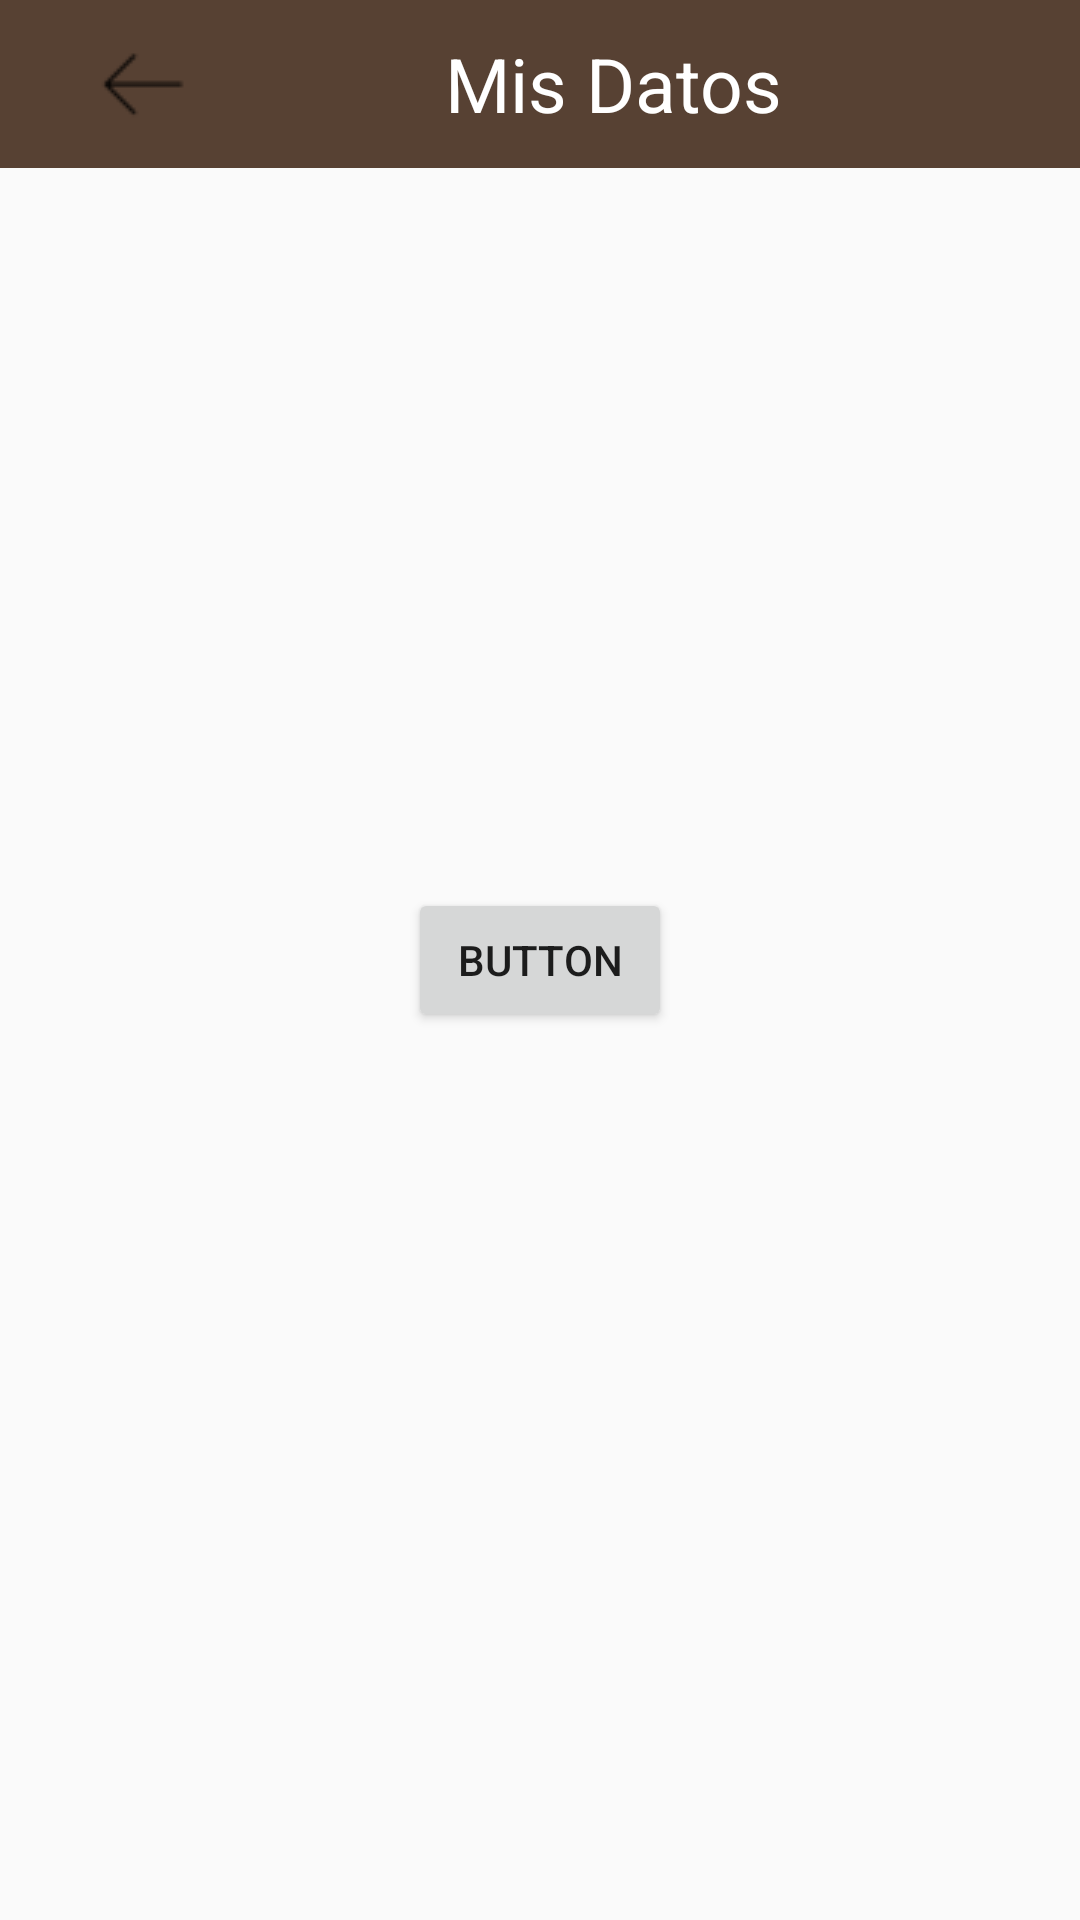

Locate icon controls on the screen. Image size 1080w x 1920h, boxes as (x1, y1, x2, y2).
flecha izquierda: (104, 54, 182, 114)
